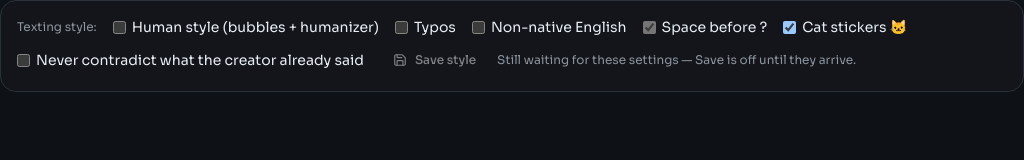
it: the texting-style card's load gate › 🚨 disables Save style until the style config lands, and sends nothing
Expected: the checkbox labelled "Typos" is shown, left=395, top=20, right=408, bottom=34
Click the button "Save style" at (434, 60), box left=380, top=45, right=489, bottom=75
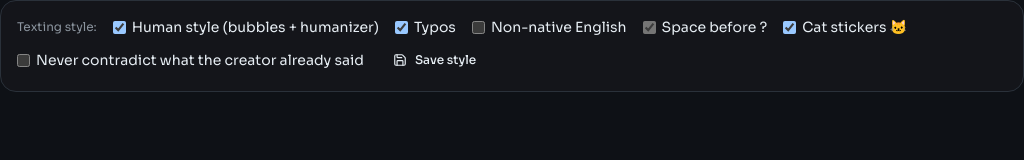
Now the button "Save style" is enabled, box left=380, top=45, right=489, bottom=75
